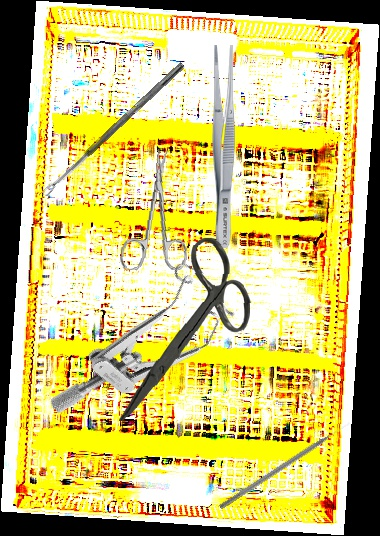Dressing Forceps: (210, 45, 237, 248)
Hook Surgical: (218, 420, 352, 511)
Iris Scissors: (119, 235, 253, 426), (119, 146, 198, 276)
Speculum: (47, 243, 248, 460)
Surgical Spoon: (40, 61, 186, 197)
